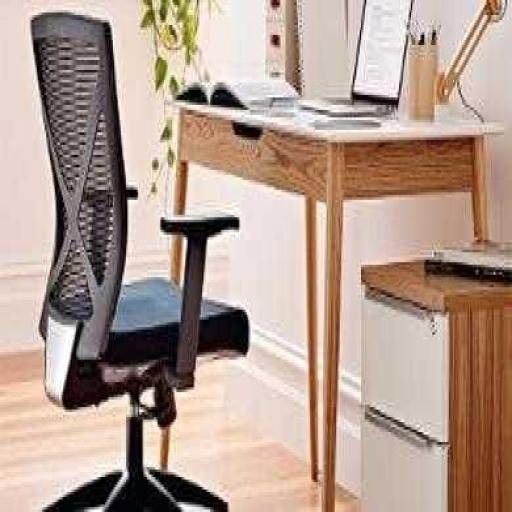chair: (28, 5, 250, 509)
